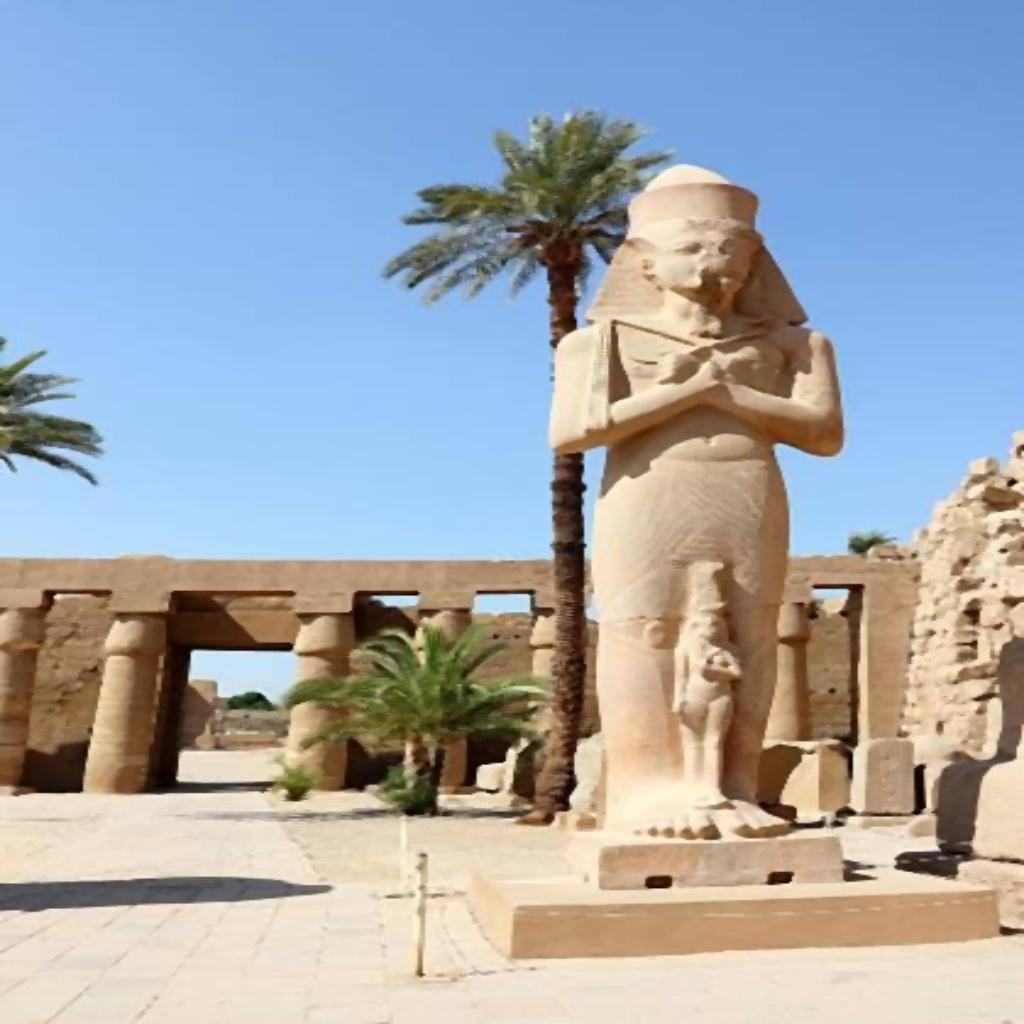Standing Statue of King Ramses II: (543, 160, 848, 844)
